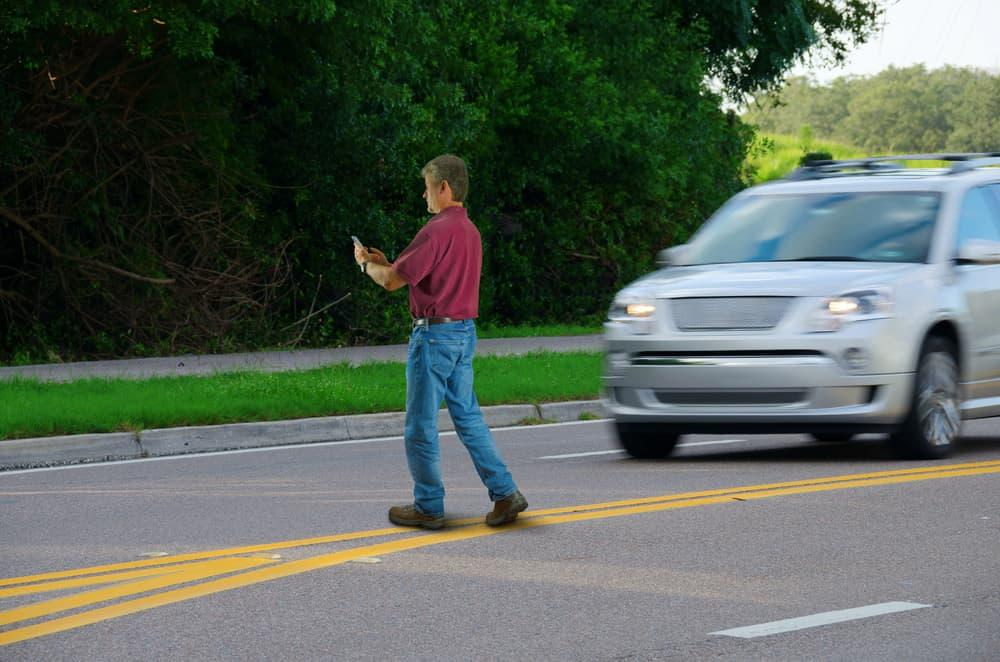car: (598, 143, 1000, 461)
pedestrian: (337, 143, 549, 537)
